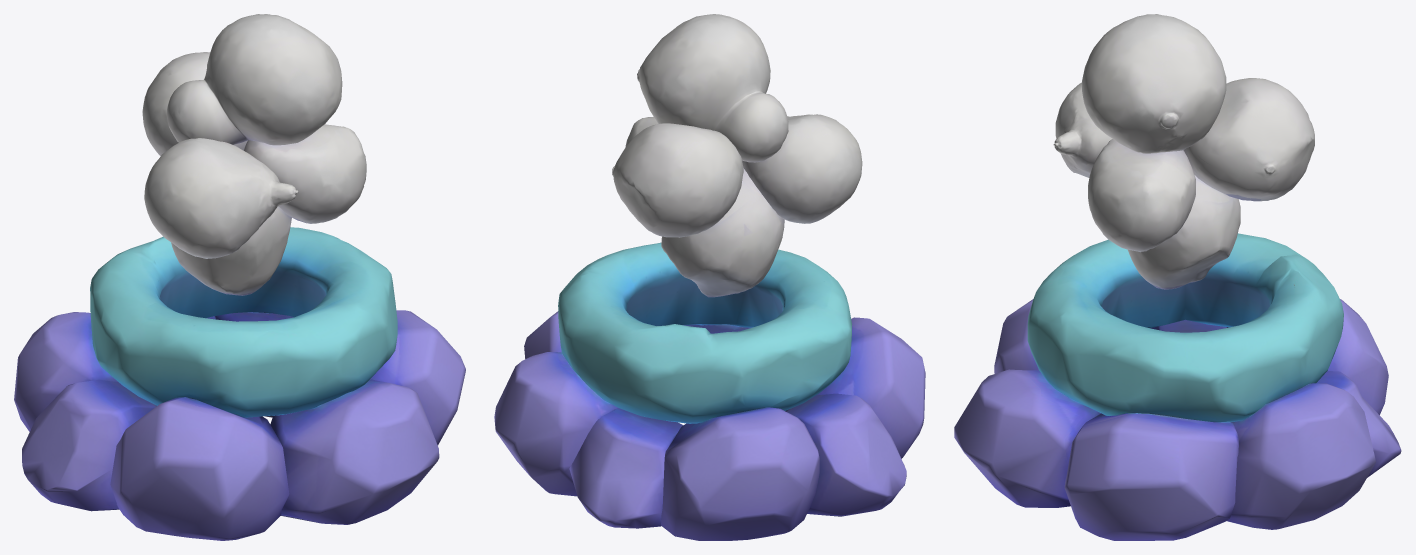
3 renders of one model, left to right at view 1: azimuth 30°, elevation 25°; view 2: azimuth 150°, elevation 25°; view 3: azimuth 270°, elevation 25°, orthographic. The views are drawn at different scales.
Visible parts, largest first — view 1: tripo_node_b2d7ac95-4f0f-44ee-a0c5-288f9c9e5dd2; view 2: tripo_node_b2d7ac95-4f0f-44ee-a0c5-288f9c9e5dd2; view 3: tripo_node_b2d7ac95-4f0f-44ee-a0c5-288f9c9e5dd2.
Part boxes in pixels (x1,y1,x2,y2): tripo_node_b2d7ac95-4f0f-44ee-a0c5-288f9c9e5dd2: (14, 14, 465, 540); tripo_node_b2d7ac95-4f0f-44ee-a0c5-288f9c9e5dd2: (494, 14, 925, 540); tripo_node_b2d7ac95-4f0f-44ee-a0c5-288f9c9e5dd2: (954, 14, 1401, 540).
Bounding box in the file's own units: 0.9277 × 0.998 × 0.8965.
Materials: 1 (1 with a texture image).
